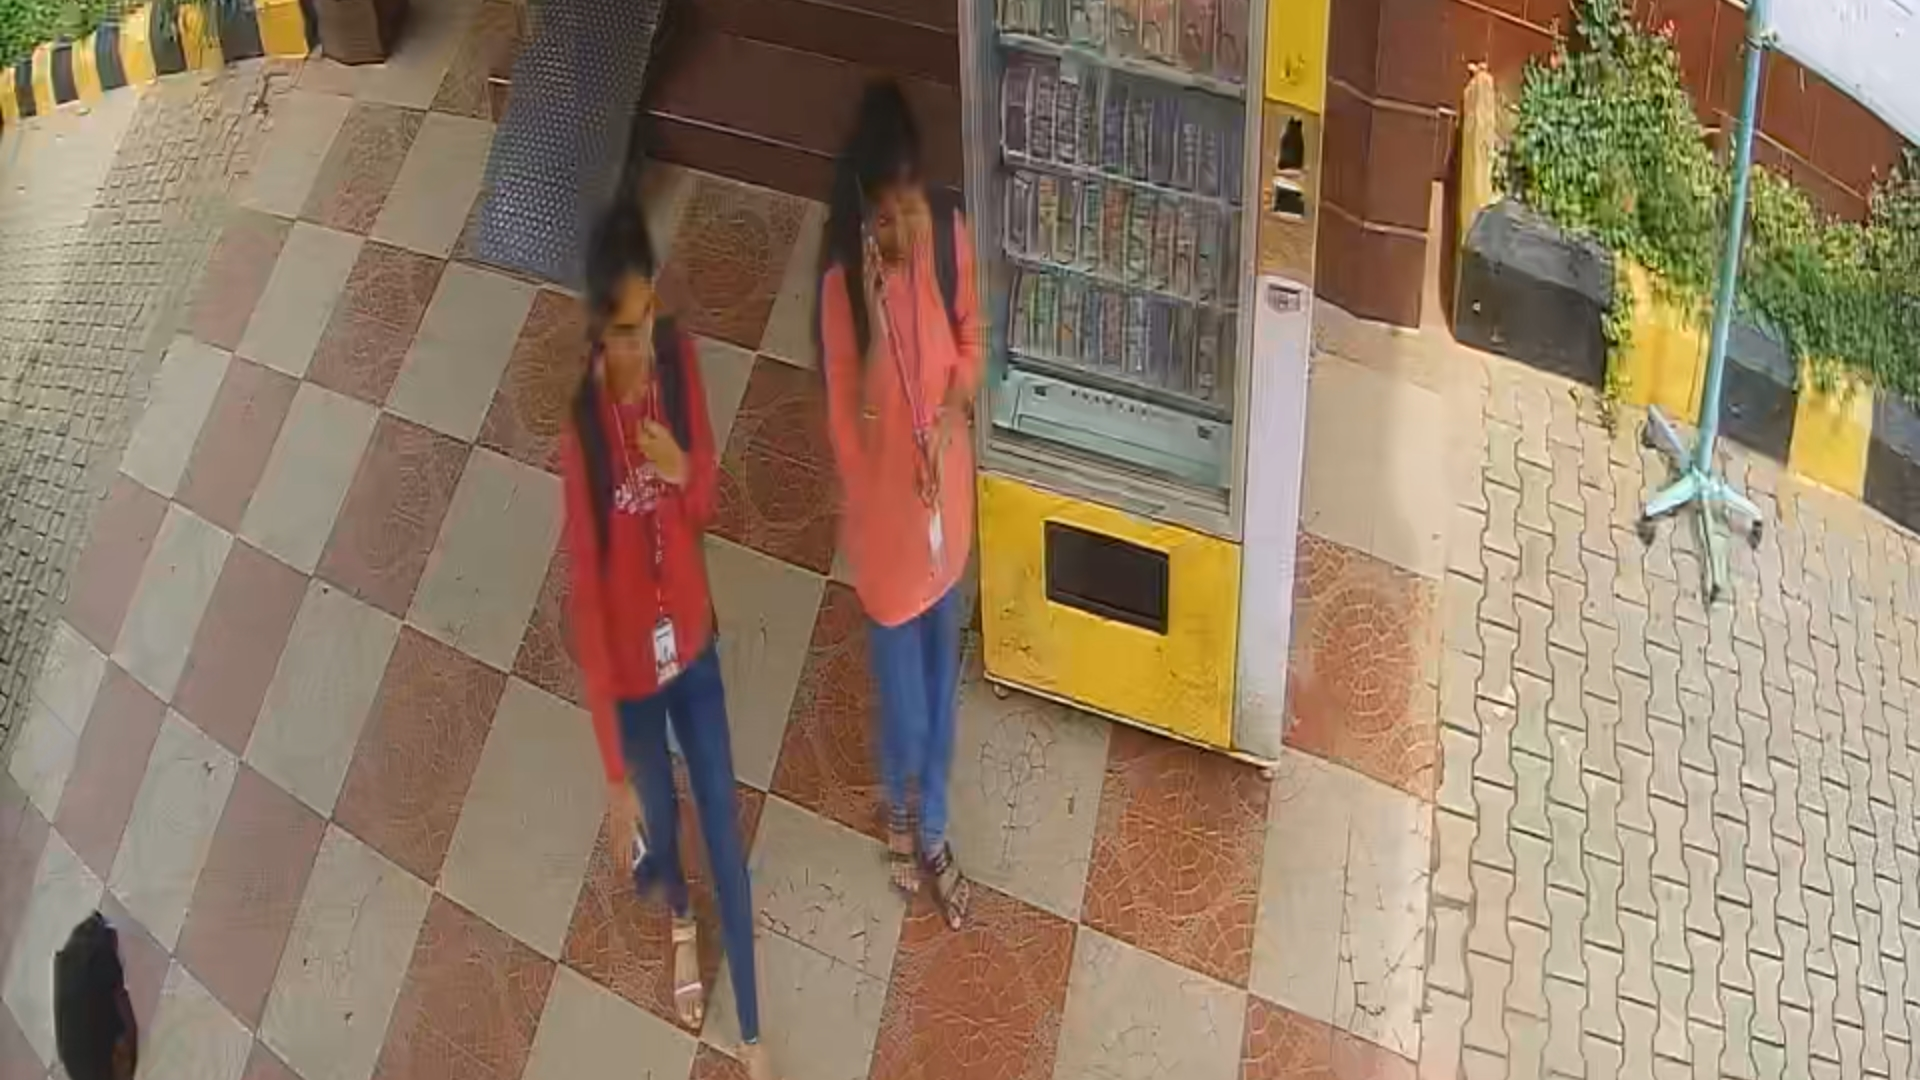not intruder: (559, 202, 789, 1080), (816, 45, 973, 960)
